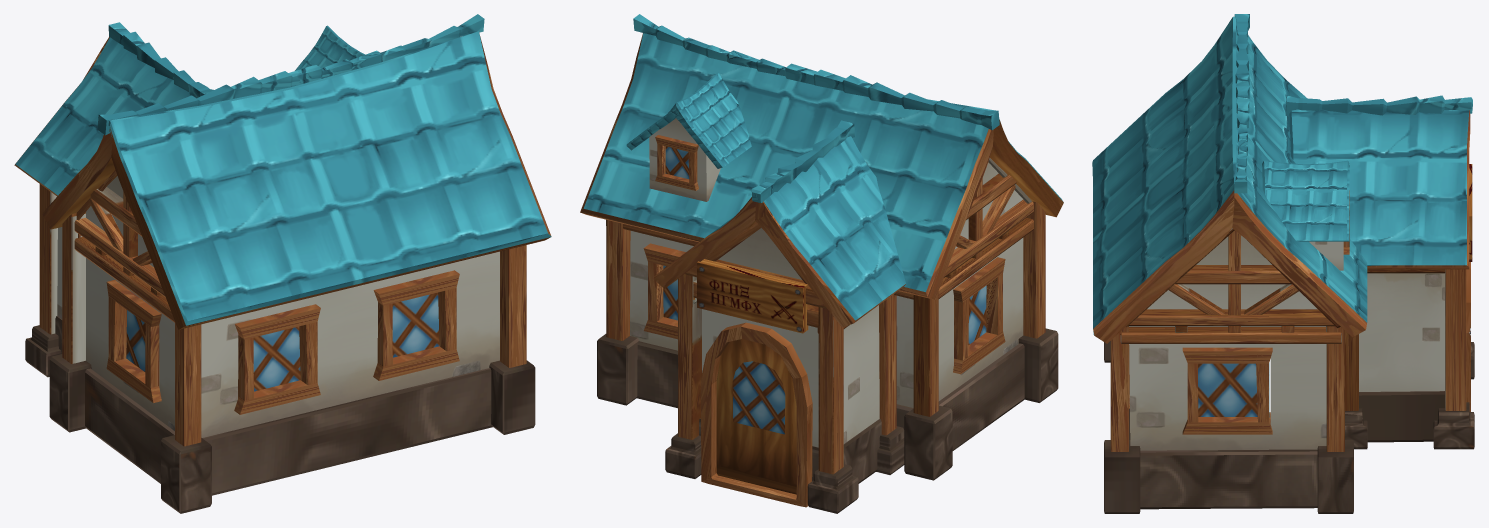
The model's file is house.fbx.
3 renders of one model, left to right at view 1: azimuth 30°, elevation 25°; view 2: azimuth 150°, elevation 25°; view 3: azimuth 270°, elevation 25°, orthographic. The views are drawn at different scales.
Visible parts, largest first — view 1: house; view 2: house; view 3: house.
Part boxes in pixels (bbox=[...]): house: bbox=[14, 14, 551, 513]; house: bbox=[580, 14, 1063, 513]; house: bbox=[1092, 14, 1474, 513].
Bounding box in the file's own units: 764 × 686 × 695.
2 materials, 2 textured.
